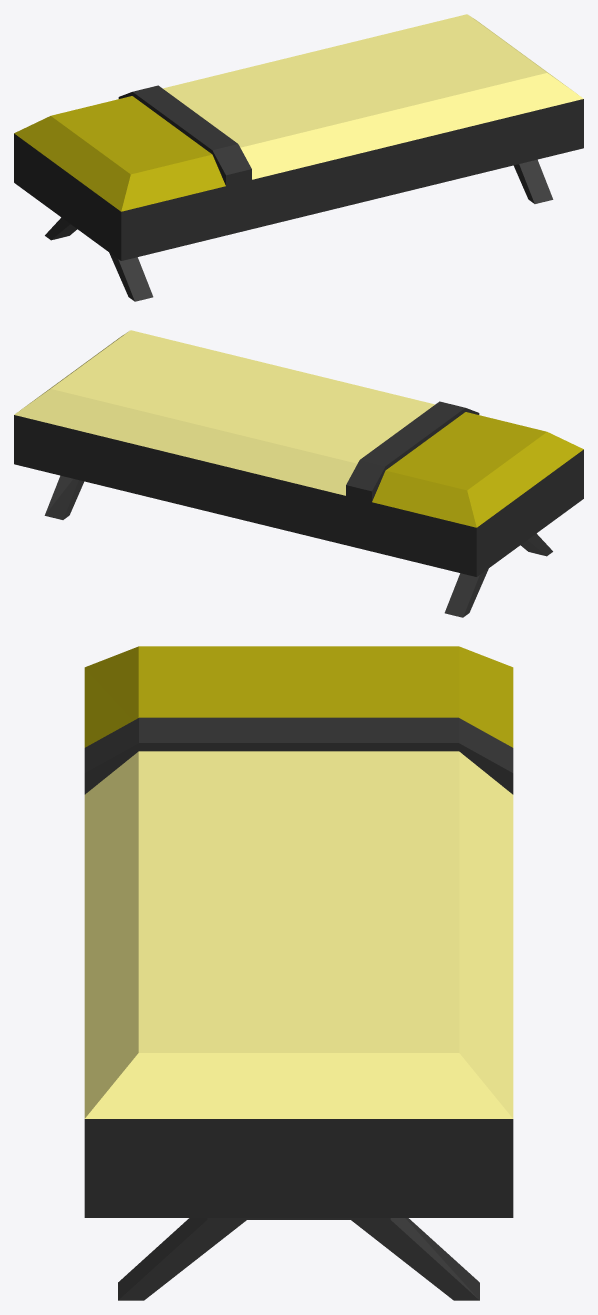
Rendered from bed_1.fbx.
3 renders of one model, top to bottom at view 1: azimuth 30°, elevation 25°; view 2: azimuth 150°, elevation 25°; view 3: azimuth 270°, elevation 25°, orthographic. The views are drawn at different scales.
Visible parts, largest first — view 1: bed_1; view 2: bed_1; view 3: bed_1.
Part boxes in pixels (<box>): bed_1: <box>14,14,583,301</box>; bed_1: <box>14,330,583,617</box>; bed_1: <box>84,646,513,1300</box>.
Bounding box in the file's own units: 200 × 52.67 × 80.25.
